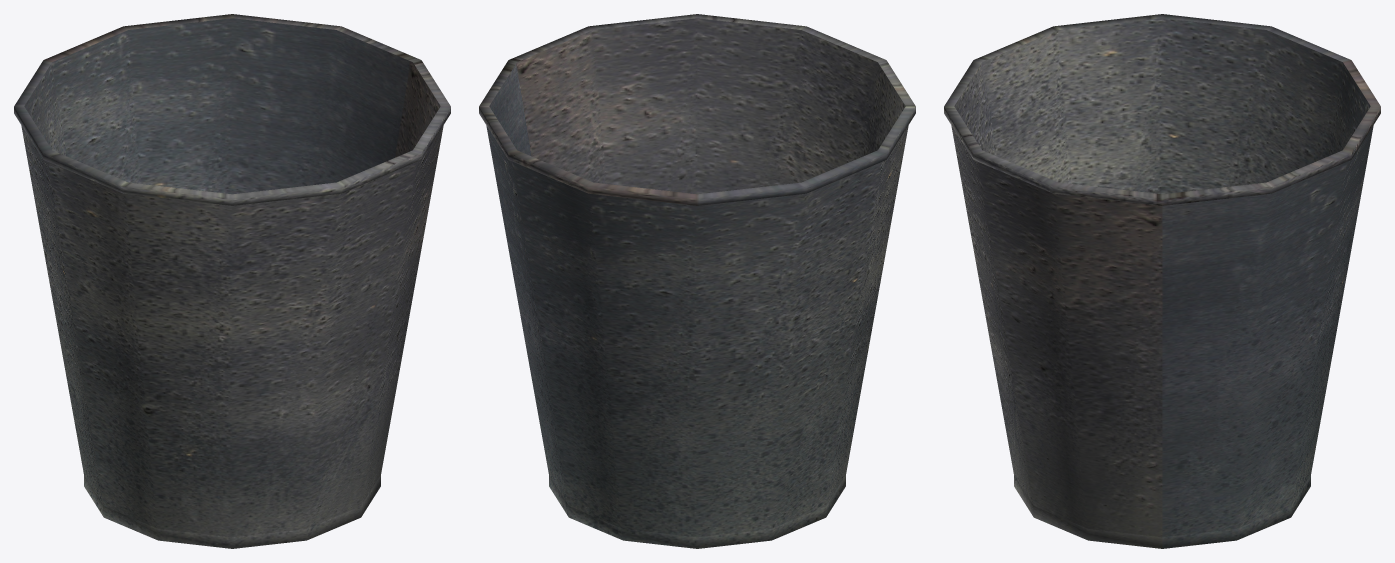
Rendered from Bucket.FBX.
The picture shows the model from 3 angles, left to right: view 1: azimuth 30°, elevation 25°; view 2: azimuth 150°, elevation 25°; view 3: azimuth 270°, elevation 25°; orthographic projection.
Visible parts, largest first — view 1: Bucket; view 2: Bucket; view 3: Bucket.
Boxes of the visible parts, box(x1,y1,x2,y2) form: Bucket: box(14, 14, 450, 548); Bucket: box(479, 14, 915, 548); Bucket: box(944, 14, 1380, 548).
Size of the model in its own units: 0.3618 by 0.3473 by 0.3618.
